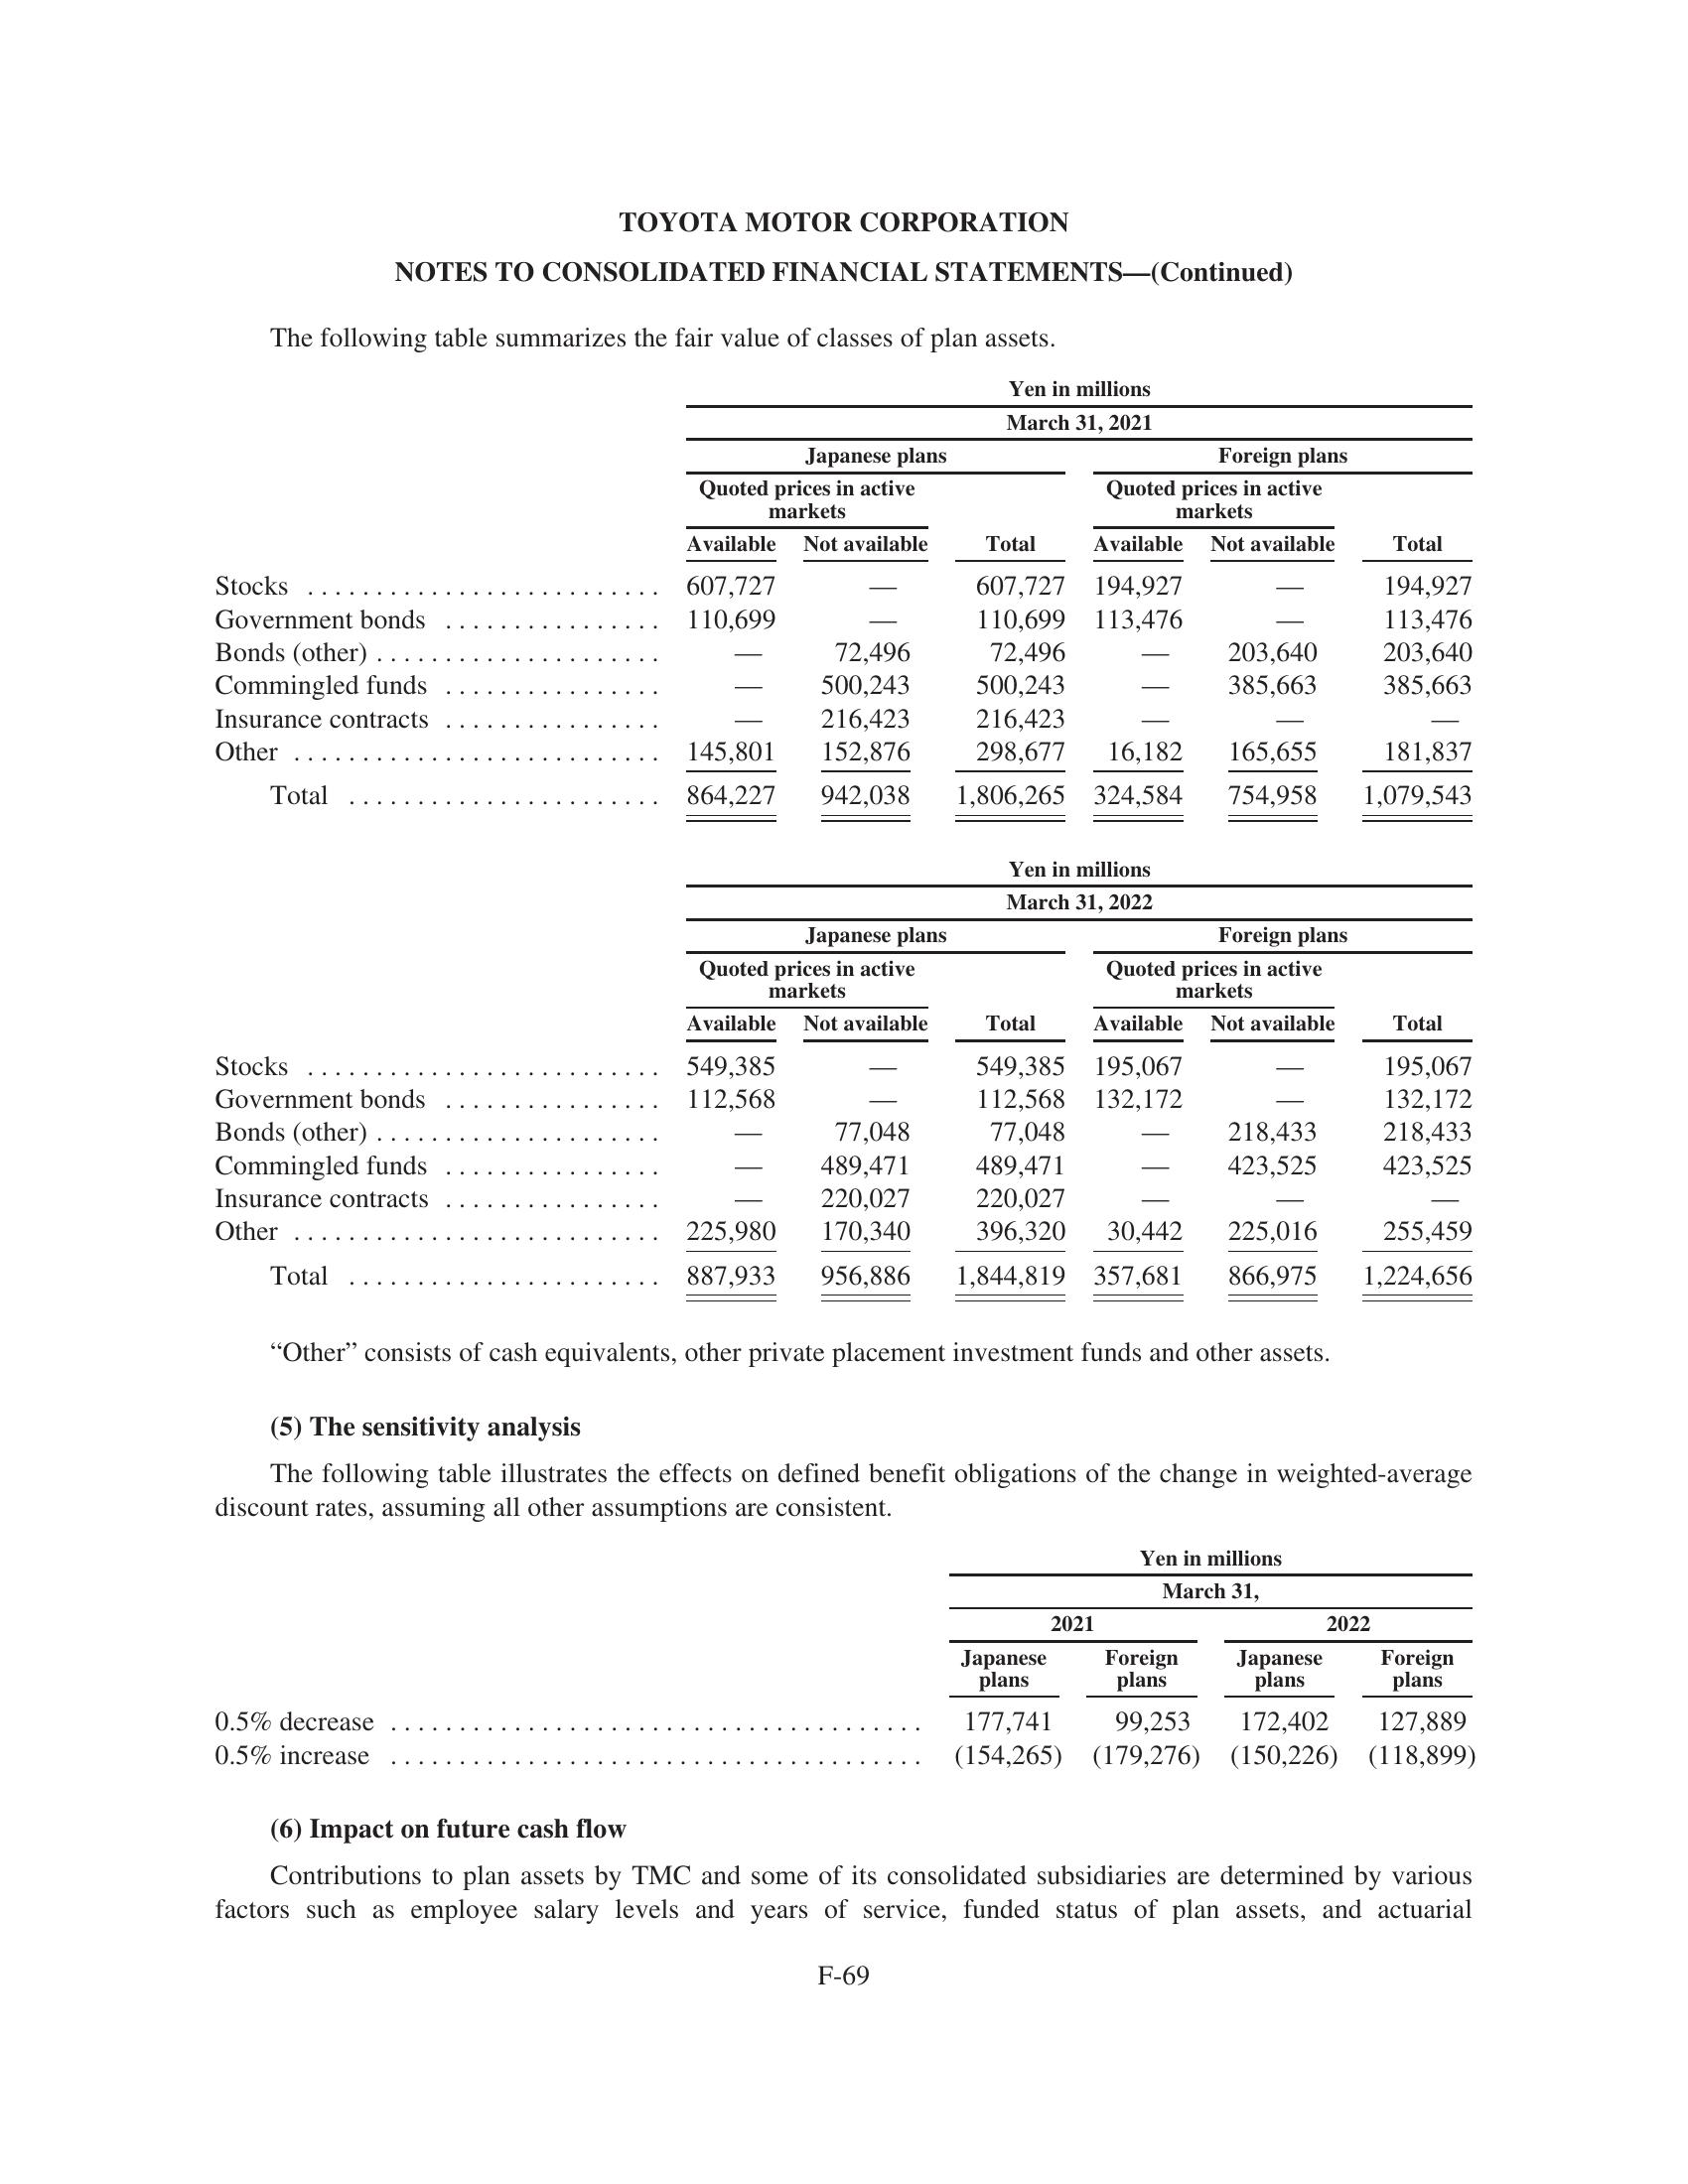Footer: (0, 1950, 1688, 2184)
Header: (0, 0, 1688, 179)
Table: (163, 847, 1495, 1315), (167, 367, 1504, 826), (163, 1540, 1512, 1789)
